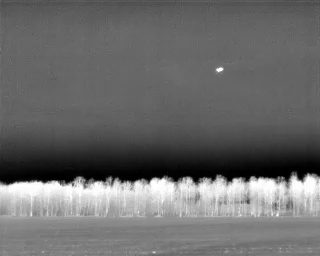DRONE: (213, 63, 227, 77)
